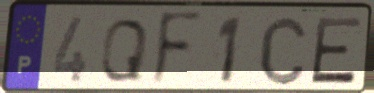1: (213, 15, 244, 87)
4: (51, 14, 89, 87)
C: (256, 13, 310, 88)
E: (308, 15, 365, 86)
F: (149, 9, 205, 92)
Q: (97, 17, 151, 85)
